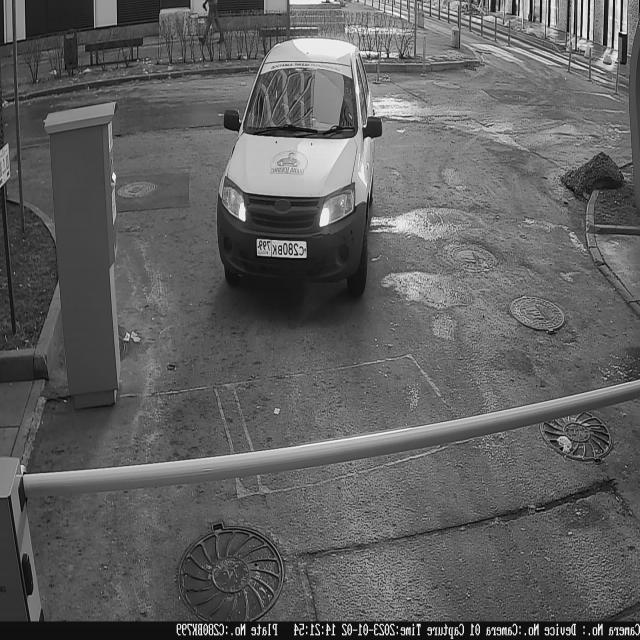car-plate-numbers: (255, 234, 310, 265)
